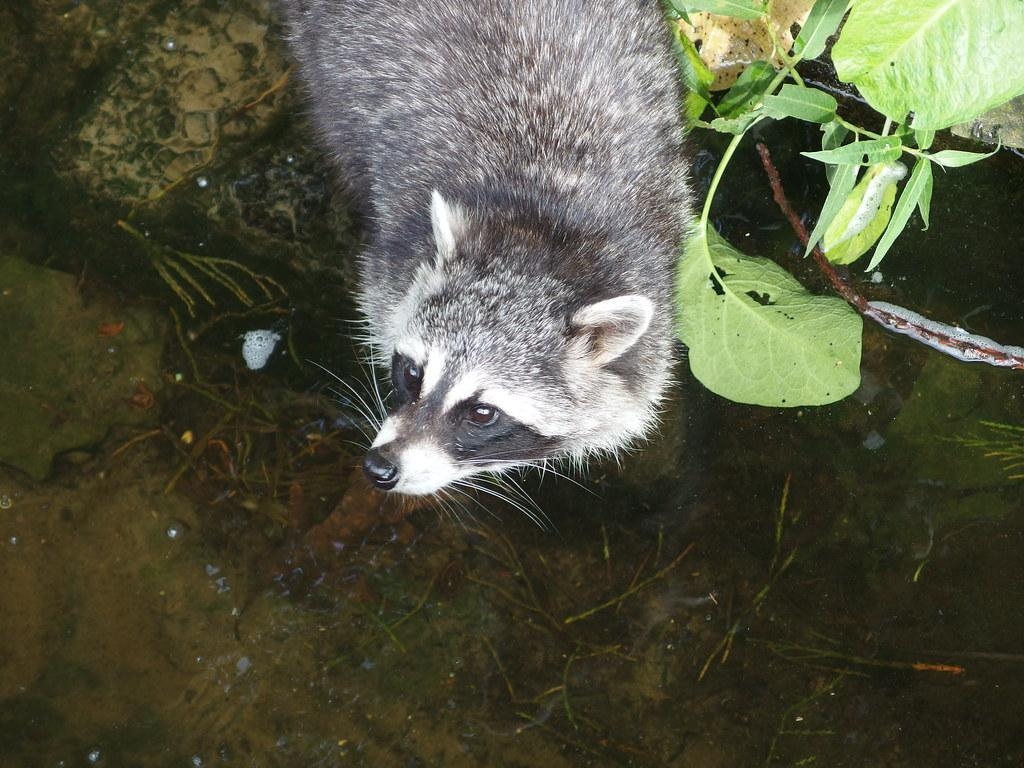raccoon: (271, 0, 695, 513)
